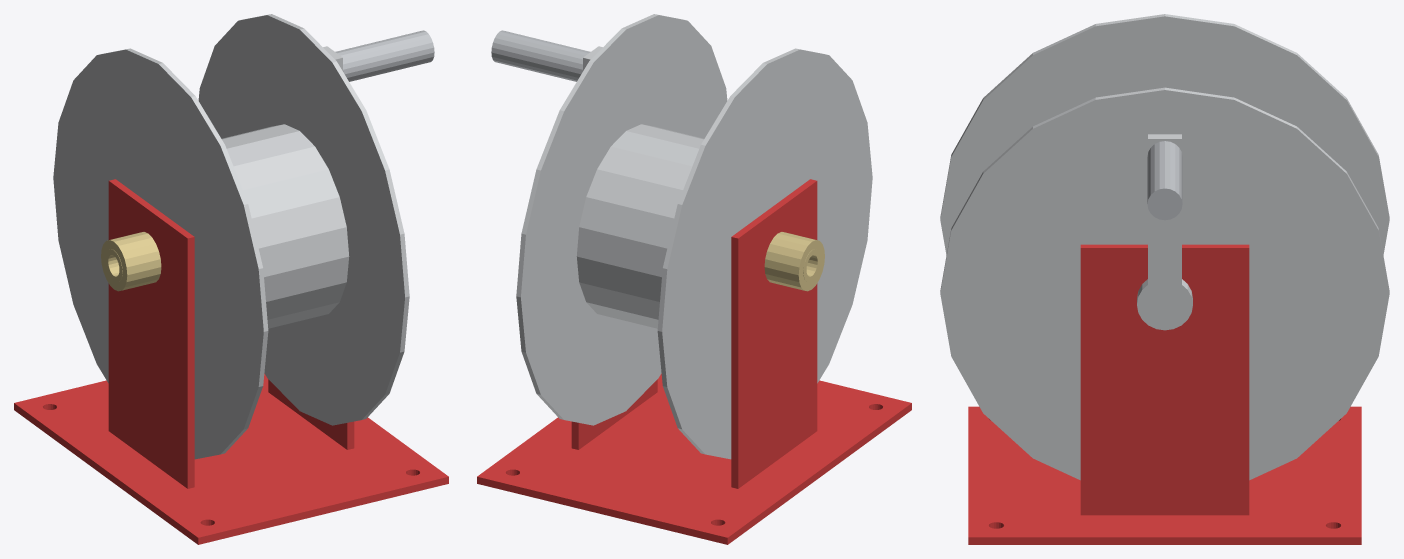
Rendered from hose-reel-single-npt.glb.
The picture shows the model from 3 angles, left to right: view 1: azimuth 30°, elevation 25°; view 2: azimuth 150°, elevation 25°; view 3: azimuth 270°, elevation 25°; orthographic projection. The views are drawn at different scales.
Parts seen in each view (by area): view 1: drum, body; view 2: drum, body; view 3: drum, body.
Part boxes in pixels (x1,y1,x2,y2): drum: (53,14,434,459); body: (14,179,448,544); drum: (491,14,872,459); body: (477,179,911,544); drum: (940,14,1389,480); body: (968,244,1361,544).
Size of what is drawn, in the model's own units: 0.281 by 0.336 by 0.32.
